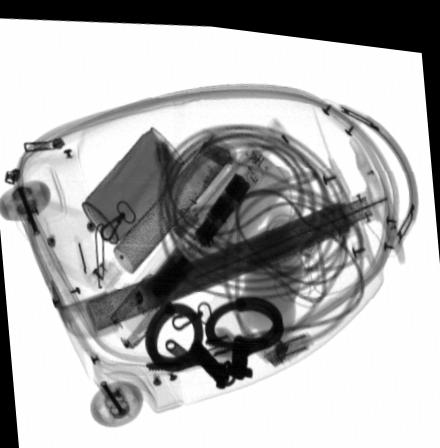Baton: (109, 136, 272, 347)
HandCuffs: (143, 289, 285, 385)
